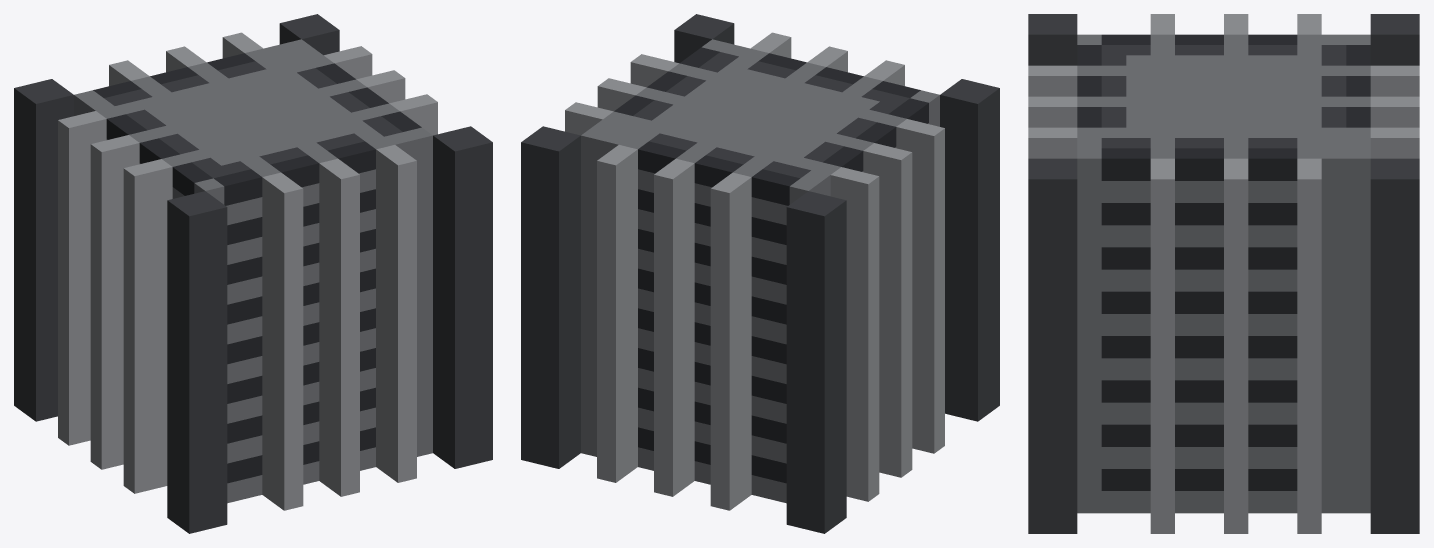
Rendered from Shaft_2x2_FinsA.obj.
The picture shows the model from 3 angles, left to right: view 1: azimuth 30°, elevation 25°; view 2: azimuth 150°, elevation 25°; view 3: azimuth 270°, elevation 25°; orthographic projection. The views are drawn at different scales.
Parts seen in each view (by area): view 1: Shaft_2x2_FinsA; view 2: Shaft_2x2_FinsA; view 3: Shaft_2x2_FinsA.
Boxes of the visible parts, x1,y1,x2,y2 form: Shaft_2x2_FinsA: (14,14,492,533); Shaft_2x2_FinsA: (521,14,999,533); Shaft_2x2_FinsA: (1028,14,1419,533).
Size of the model in its own units: 8 by 8 by 8.
Materials: 1 (1 with a texture image).
